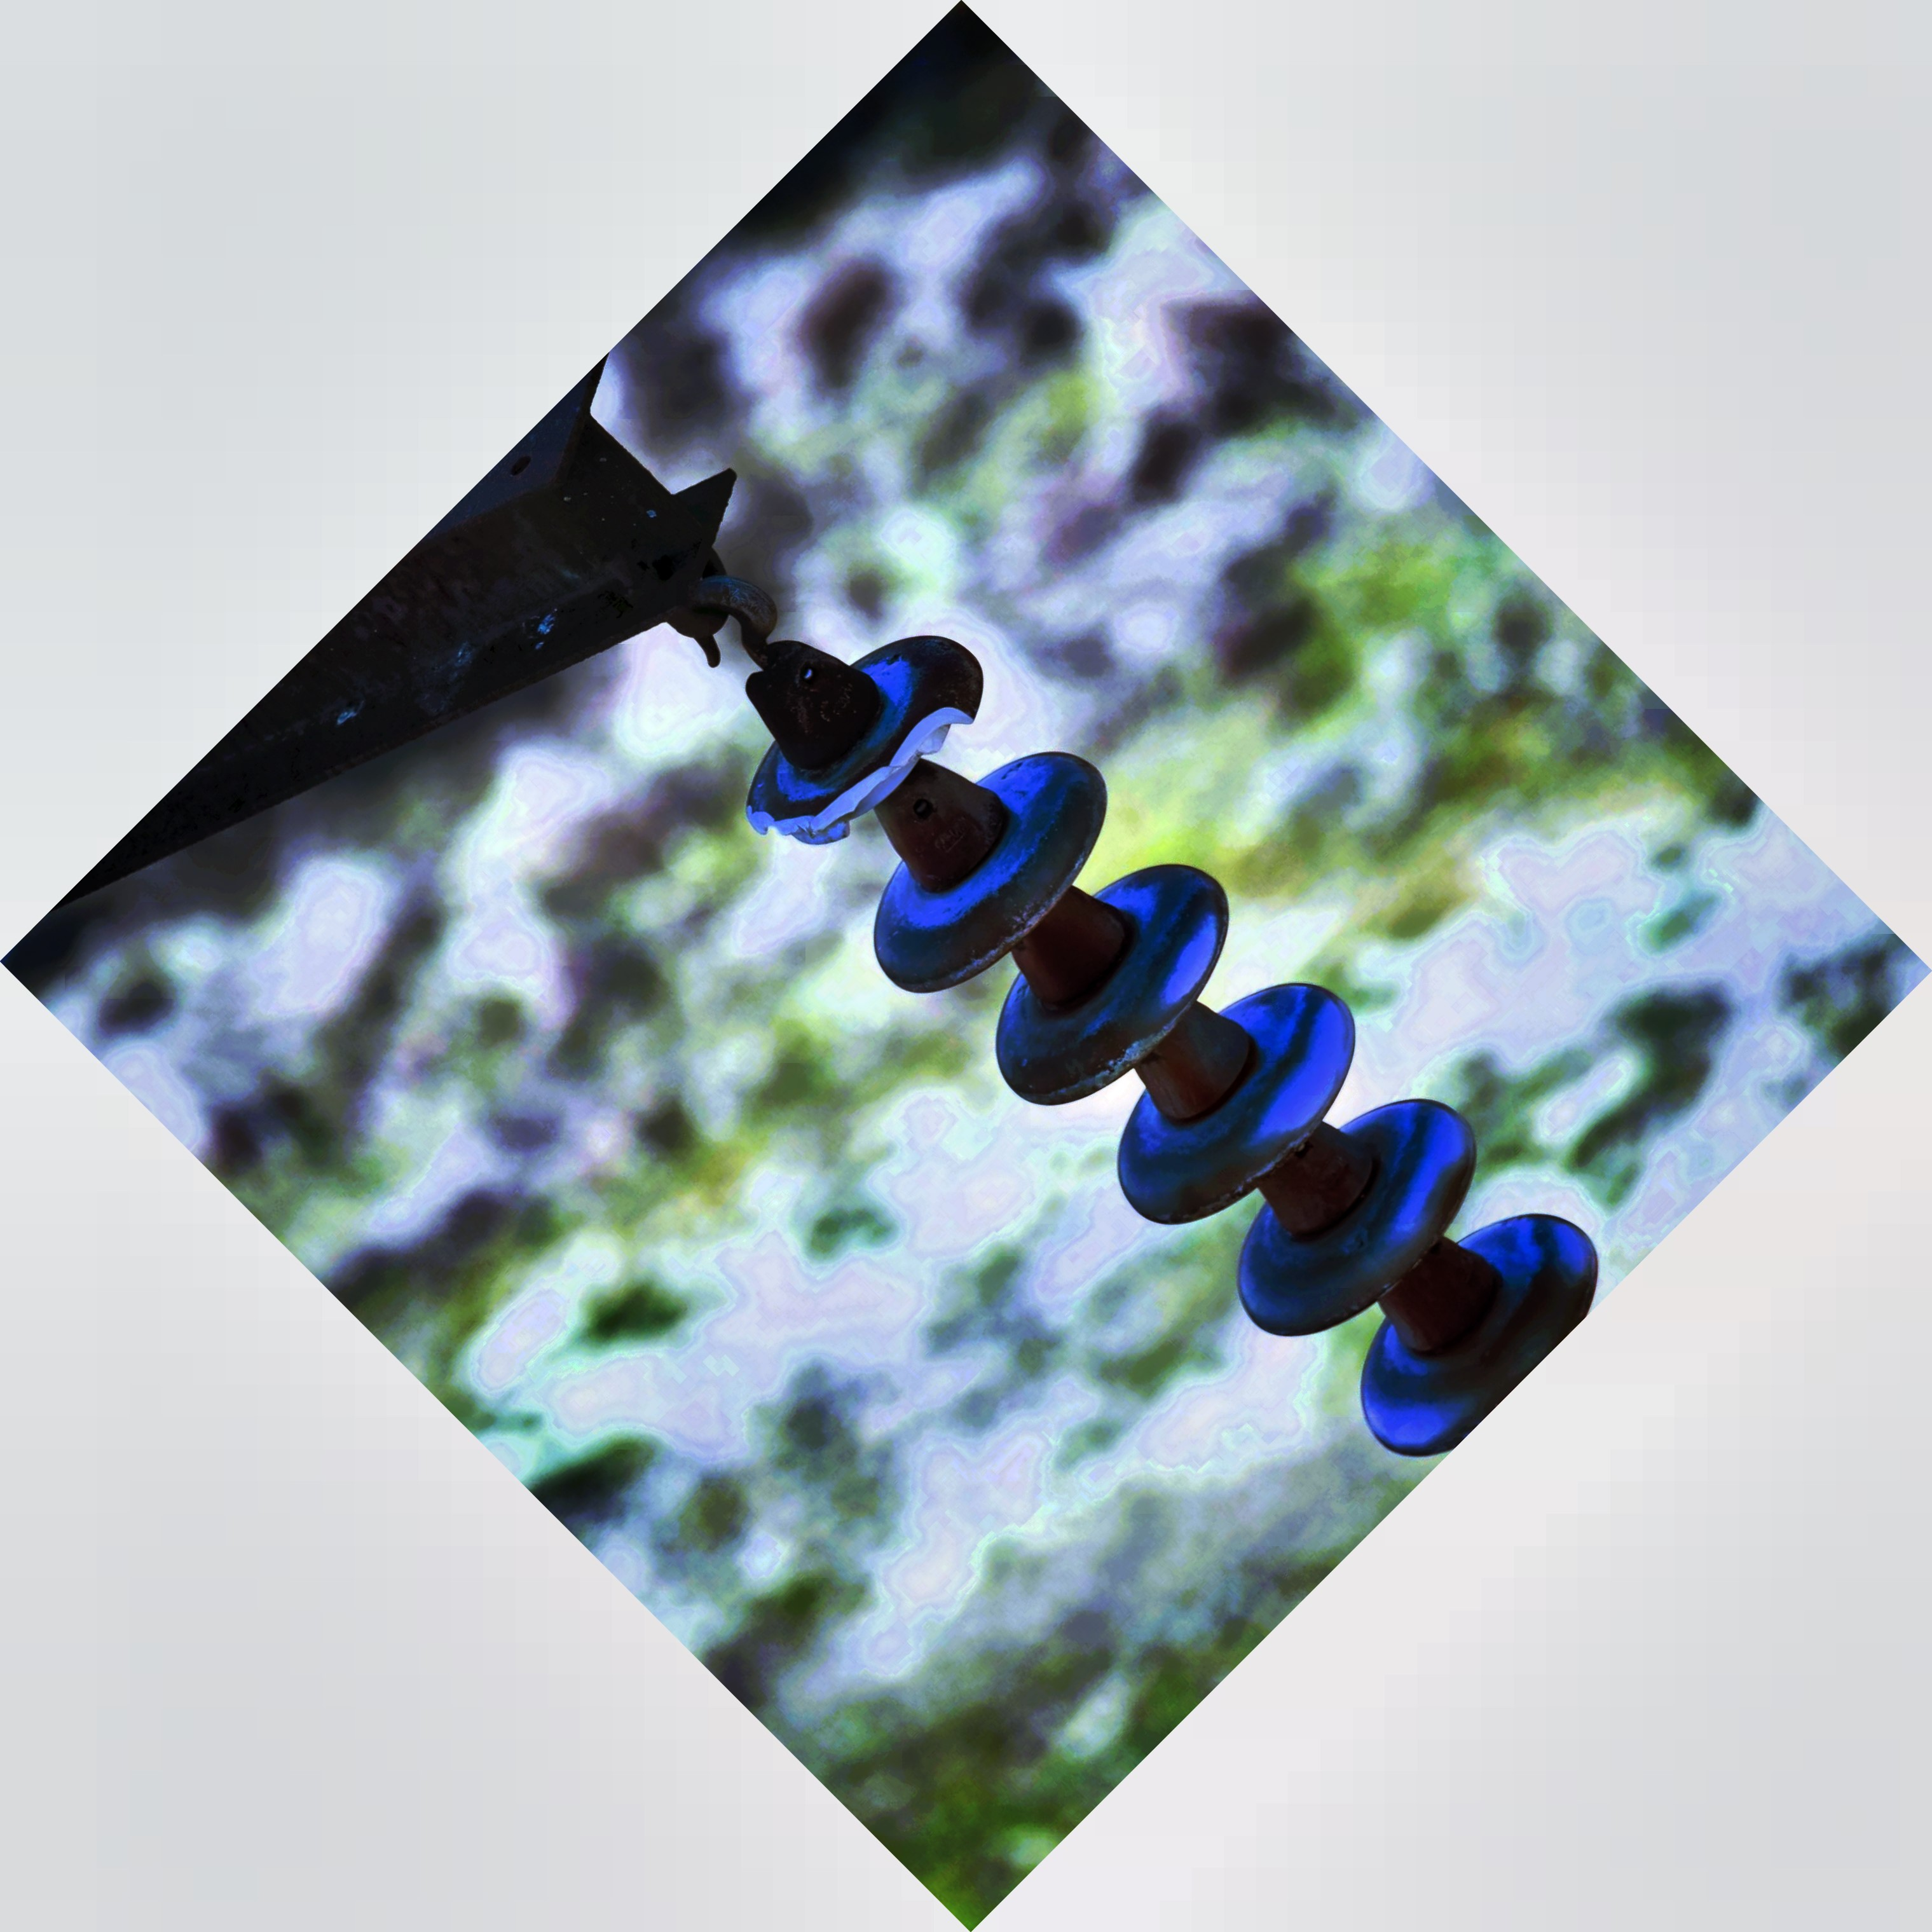insulator breakage: (718, 625, 1001, 865)
